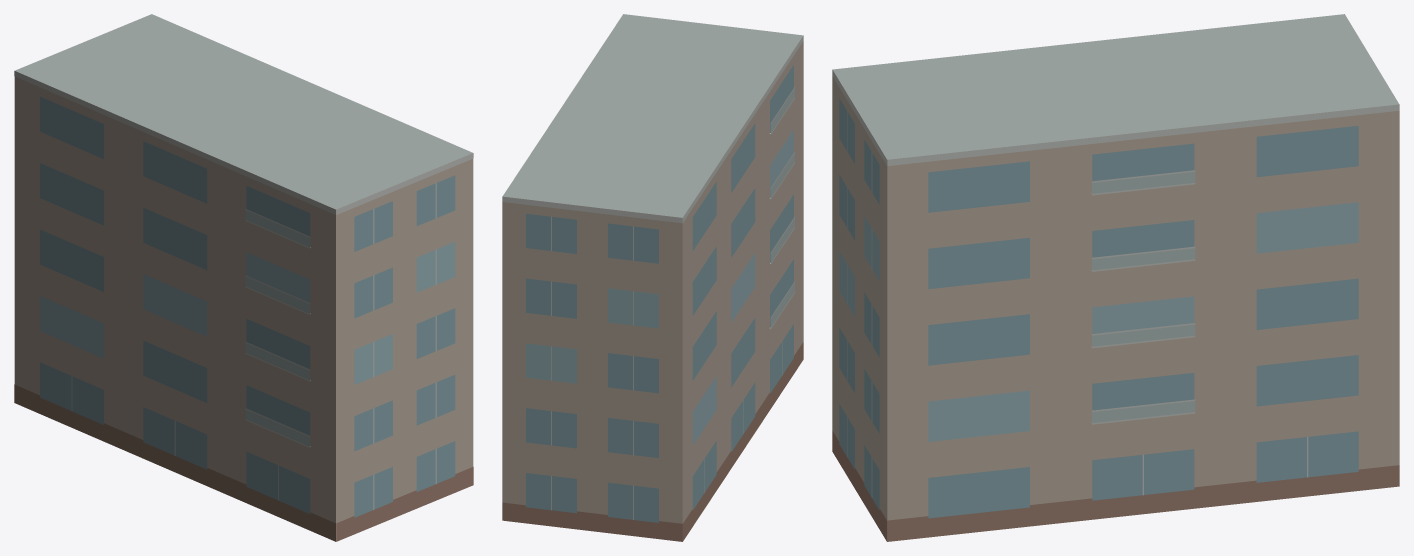
Rendered from survey-upis-32790374.glb.
3 views of the same model, side by side, from view 1: azimuth 30°, elevation 25°; view 2: azimuth 150°, elevation 25°; view 3: azimuth 270°, elevation 25° (orthographic). The views are drawn at different scales.
Visible parts, largest first — view 1: survey-upis-32790374.tmp; view 2: survey-upis-32790374.tmp; view 3: survey-upis-32790374.tmp.
Boxes of the visible parts, x1=… form: survey-upis-32790374.tmp: x1=14, y1=14, x2=473, y2=541; survey-upis-32790374.tmp: x1=502, y1=14, x2=803, y2=541; survey-upis-32790374.tmp: x1=832, y1=14, x2=1399, y2=541.
Bounding box in the file's own units: 12.09 × 14.75 × 19.85.
